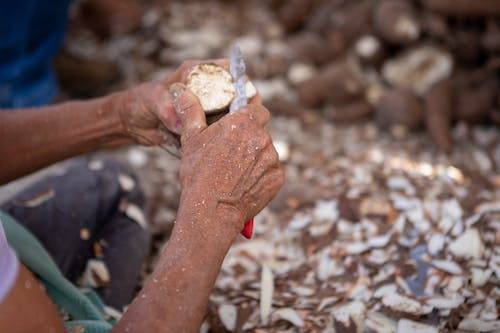knife: (226, 43, 248, 112)
